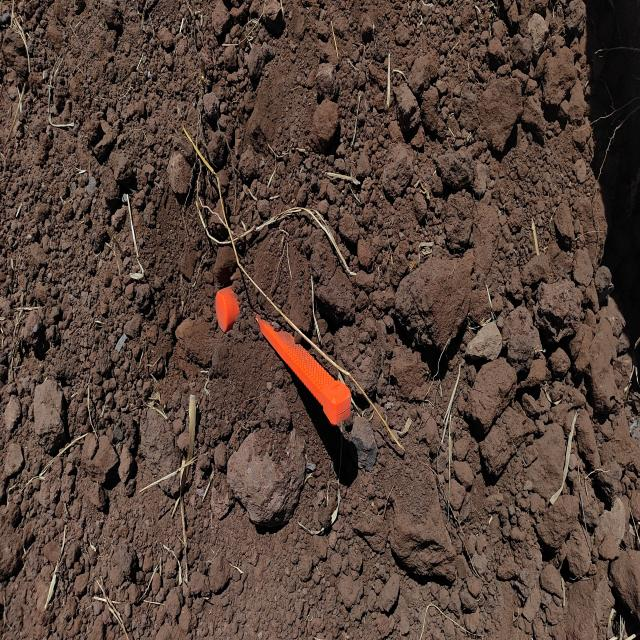Orange_hammer: (214, 276, 352, 427)
